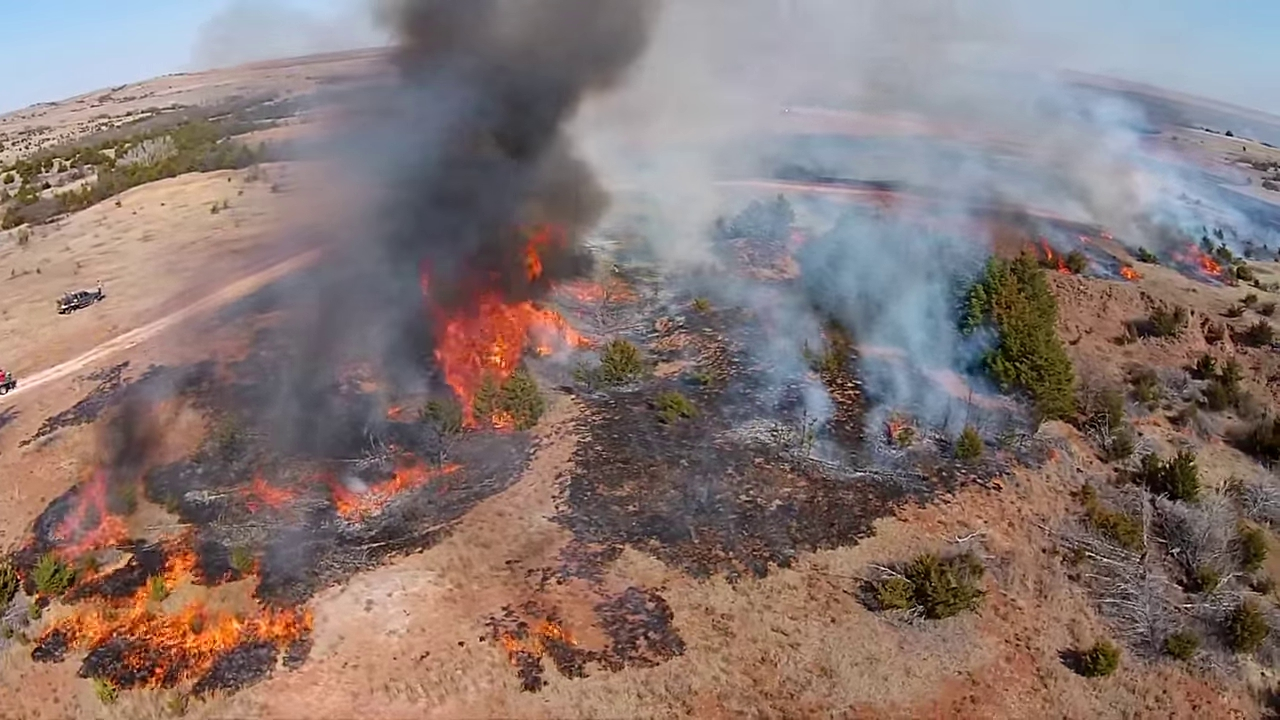forest_fire: (0, 473, 313, 691), (421, 266, 589, 426), (231, 451, 462, 529), (523, 226, 561, 283), (1166, 244, 1226, 279), (1116, 249, 1158, 280)
